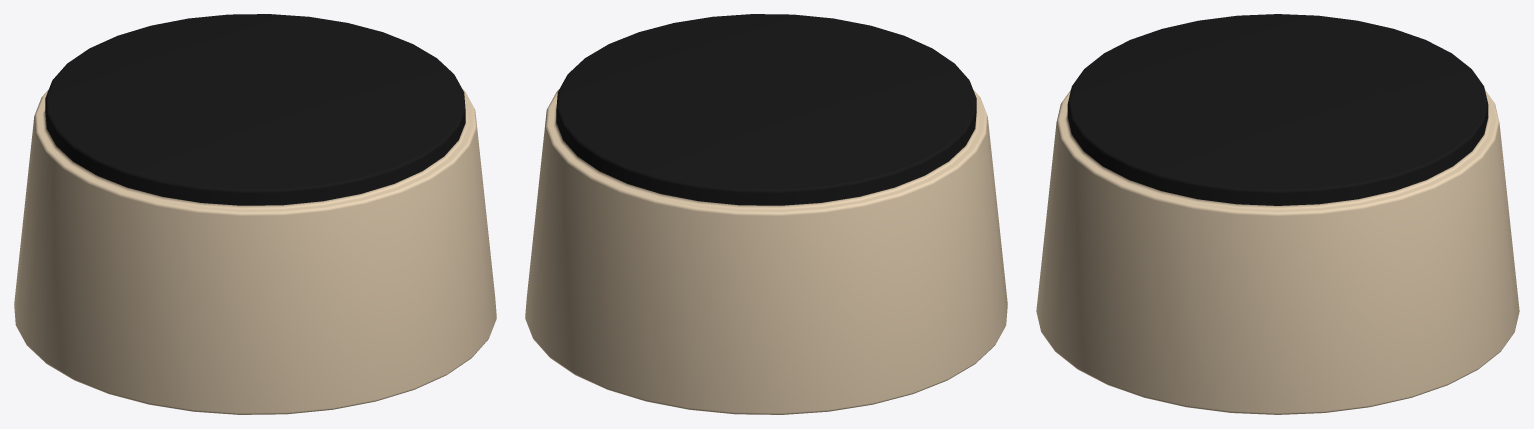
File: Подставка под сканер.fbx
The picture shows the model from 3 angles, left to right: view 1: azimuth 30°, elevation 25°; view 2: azimuth 150°, elevation 25°; view 3: azimuth 270°, elevation 25°; orthographic projection.
Parts seen in each view (by area): view 1: Circle; view 2: Circle; view 3: Circle.
Part boxes in pixels (box(x1,y1,x2,y2)): Circle: box(14, 14, 496, 414); Circle: box(525, 14, 1007, 414); Circle: box(1036, 14, 1519, 414).
Size of the model in its own units: 200 by 96.68 by 200.
